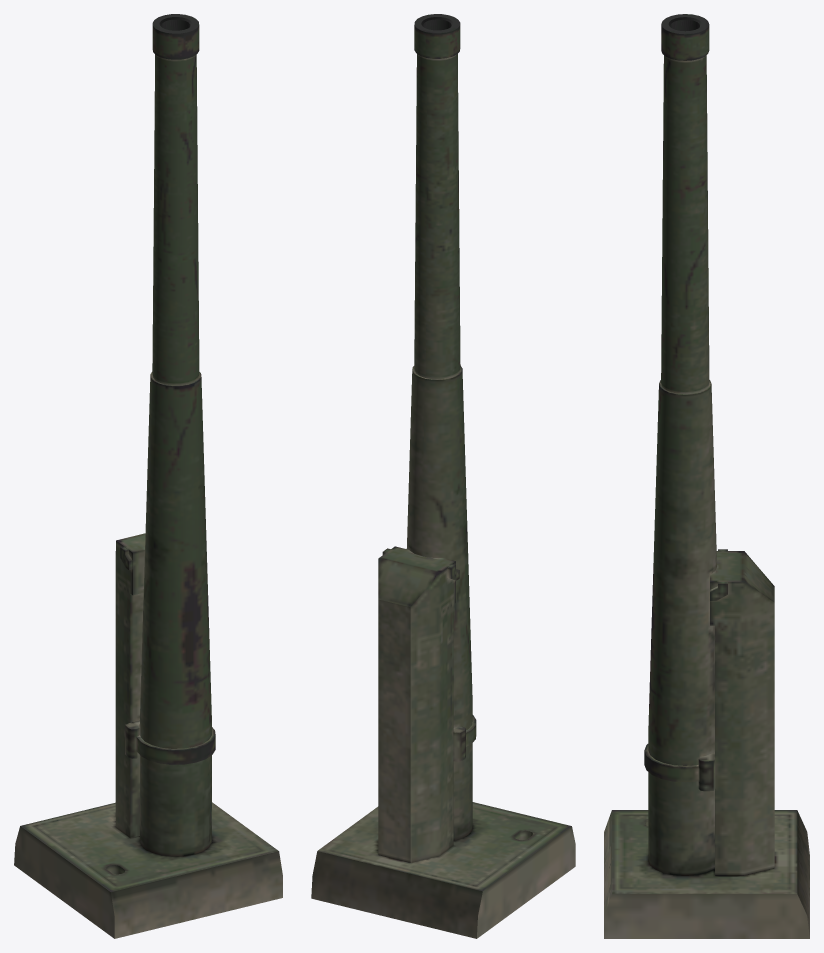
The model's file is Gun_01.glb.
The picture shows the model from 3 angles, left to right: view 1: azimuth 30°, elevation 25°; view 2: azimuth 150°, elevation 25°; view 3: azimuth 270°, elevation 25°; orthographic projection. The views are drawn at different scales.
Visible parts, largest first — view 1: set_0_group_0; view 2: set_0_group_0; view 3: set_0_group_0.
Boxes of the visible parts, left/top/right/bottom form: set_0_group_0: left=14, top=14, right=282, bottom=938; set_0_group_0: left=311, top=14, right=575, bottom=938; set_0_group_0: left=604, top=14, right=809, bottom=938.
Bounding box in the file's own units: 0.5 × 2.45 × 0.5176.
1 material, 1 textured.
